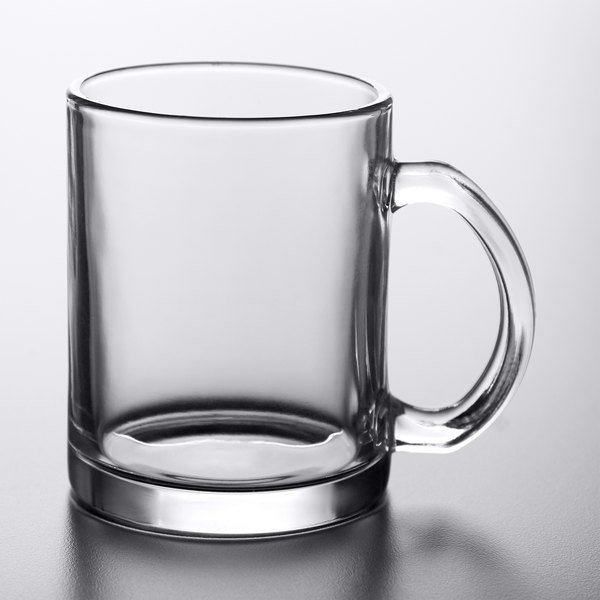glass: (64, 59, 535, 545)
